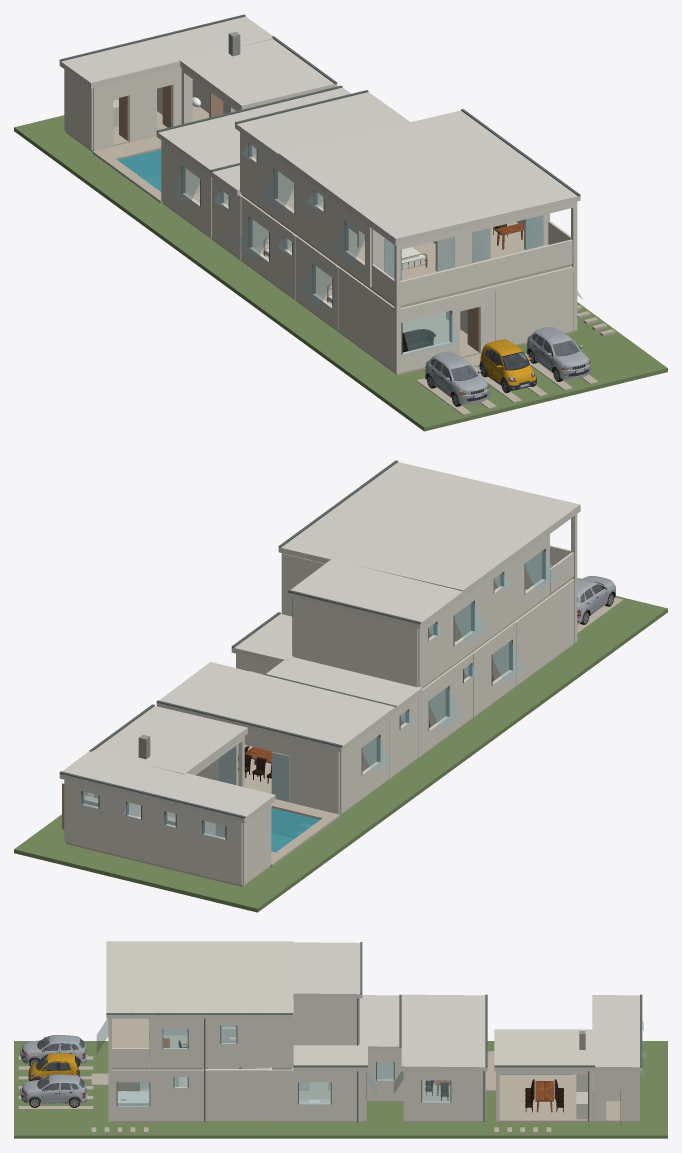
The model's file is CASA-04-R1.glb.
3 views of the same model, one above another, from view 1: azimuth 30°, elevation 25°; view 2: azimuth 150°, elevation 25°; view 3: azimuth 270°, elevation 25° (orthographic). The views are drawn at different scales.
Visible parts, largest first — view 1: Terreno, Caimento cobertura superior-frente, Caimento cobertura superior-escada, Caimento cobertura quiosque, Caimento cobertura superior-fundos, Caimento cobertura apoio-servico, Parede terreo.005, Guarda varanda frontal, Parede terreo.009, Caimento cobertura gourmet, Terreno.001, Veículo Scopia CC-BY 3 (+34 smaller); view 2: Terreno, Caimento cobertura superior-frente, Caimento cobertura gourmet, Caimento cobertura superior-escada, Parede superior.043, Terreno.001, Caimento cobertura superior-fundos, Caimento cobertura apoio-servico, Caimento cobertura quiosque, Parede terreo.009, Parede terreo.099, Caimento cobertura ligacao (+27 smaller); view 3: Terreno, Caimento cobertura superior-frente, Caimento cobertura superior-escada, Caimento cobertura gourmet, Parede terreo.038, Terreno.001, Caimento cobertura quiosque, Caimento cobertura superior-fundos, Caimento cobertura apoio-servico, Parede superior.049, Parede superior.037, Piso · Quiosque e mesa (+51 smaller).
Part boxes in pixels (x1,y1,x2,y2): Terreno: [122, 199, 667, 431]; Caimento cobertura superior-frente: [332, 150, 580, 241]; Caimento cobertura superior-escada: [278, 110, 514, 194]; Caimento cobertura quiosque: [178, 39, 336, 107]; Caimento cobertura superior-fundos: [235, 92, 409, 155]; Caimento cobertura apoio-servico: [59, 16, 273, 84]; Parede terreo.005: [479, 266, 572, 353]; Guarda varanda frontal: [400, 239, 572, 305]; Parede terreo.009: [333, 263, 394, 371]; Caimento cobertura gourmet: [156, 87, 350, 171]; Terreno.001: [14, 115, 103, 173]; Veículo Scopia CC-BY 3: [526, 327, 591, 379]; Terreno: [334, 596, 667, 832]; Caimento cobertura superior-frente: [335, 462, 580, 553]; Caimento cobertura gourmet: [156, 662, 395, 748]; Caimento cobertura superior-escada: [278, 508, 517, 592]; Parede superior.043: [293, 598, 418, 687]; Terreno.001: [14, 814, 315, 912]; Caimento cobertura superior-fundos: [288, 559, 463, 624]; Caimento cobertura apoio-servico: [59, 750, 275, 819]; Caimento cobertura quiosque: [94, 706, 247, 774]; Parede terreo.009: [512, 579, 574, 687]; Parede terreo.099: [272, 736, 339, 813]; Caimento cobertura ligacao: [266, 657, 422, 708]; Terreno: [14, 1041, 494, 1138]; Caimento cobertura superior-frente: [106, 941, 207, 1015]; Caimento cobertura superior-escada: [207, 941, 293, 1015]; Caimento cobertura gourmet: [401, 994, 487, 1067]; Parede terreo.038: [188, 1069, 297, 1120]; Terreno.001: [575, 1041, 667, 1138]; Caimento cobertura quiosque: [494, 1029, 594, 1067]; Caimento cobertura superior-fundos: [293, 942, 362, 994]; Caimento cobertura apoio-servico: [592, 995, 642, 1067]; Parede superior.049: [293, 998, 358, 1045]; Parede superior.037: [237, 1018, 292, 1067]; Piso · Quiosque e mesa: [498, 1086, 591, 1122].
Size of the model in its own units: 12 by 7.88 by 35.
66 materials, 21 textured.
